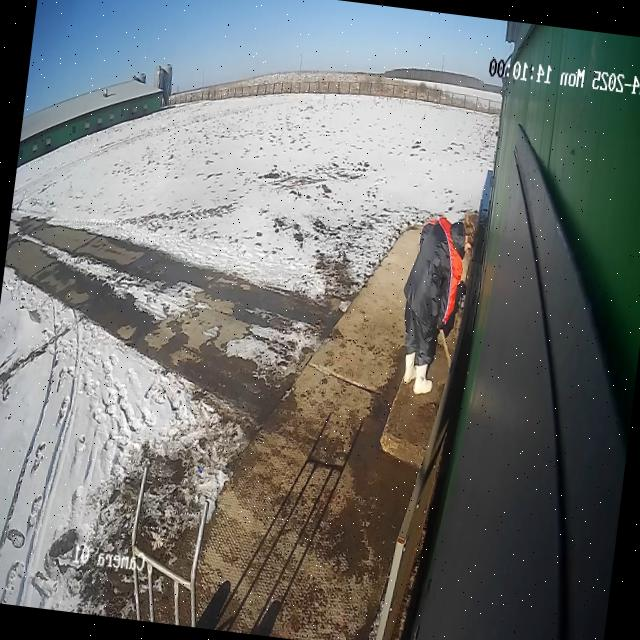Red uniform: (389, 203, 480, 402)
